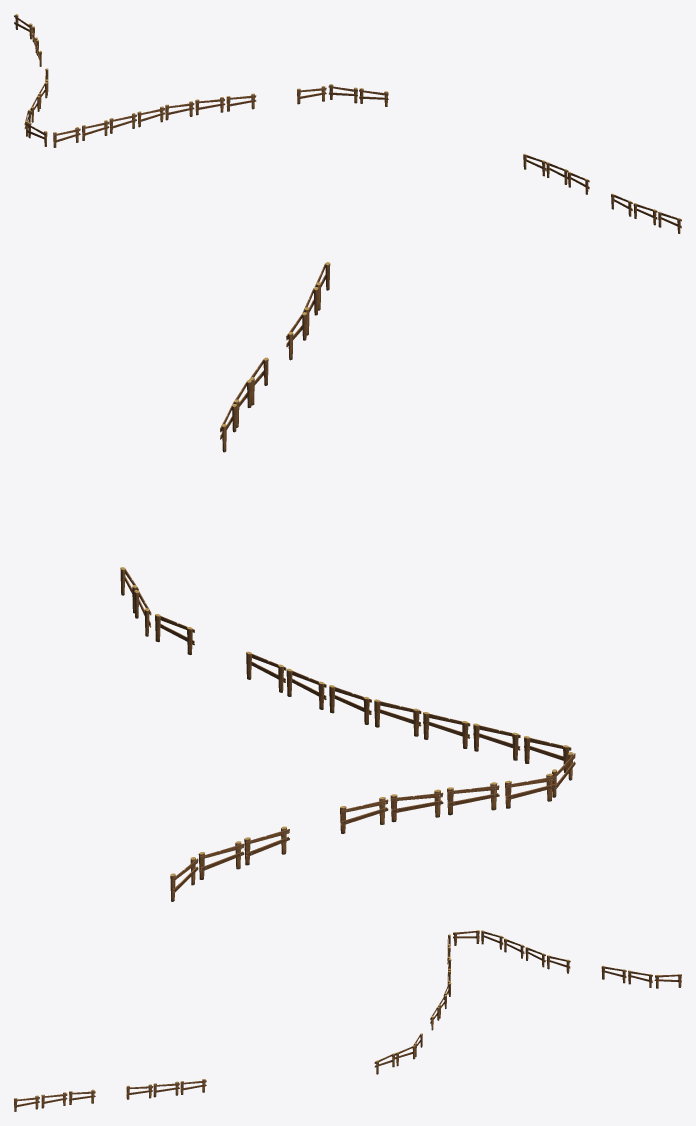
Rendered from Area_09_7.fbx.
3 views of the same model, one above another, from view 1: azimuth 30°, elevation 25°; view 2: azimuth 150°, elevation 25°; view 3: azimuth 270°, elevation 25° (orthographic). The views are drawn at different scales.
Parts seen in each view (by area): view 1: Area_09_7; view 2: Area_09_7; view 3: Area_09_7.
Part boxes in pixels (x1,y1,x2,y2): Area_09_7: [14, 14, 681, 233]; Area_09_7: [120, 262, 575, 901]; Area_09_7: [14, 930, 681, 1111].
Bounding box in the file's own units: 3870 × 157 × 6417.
